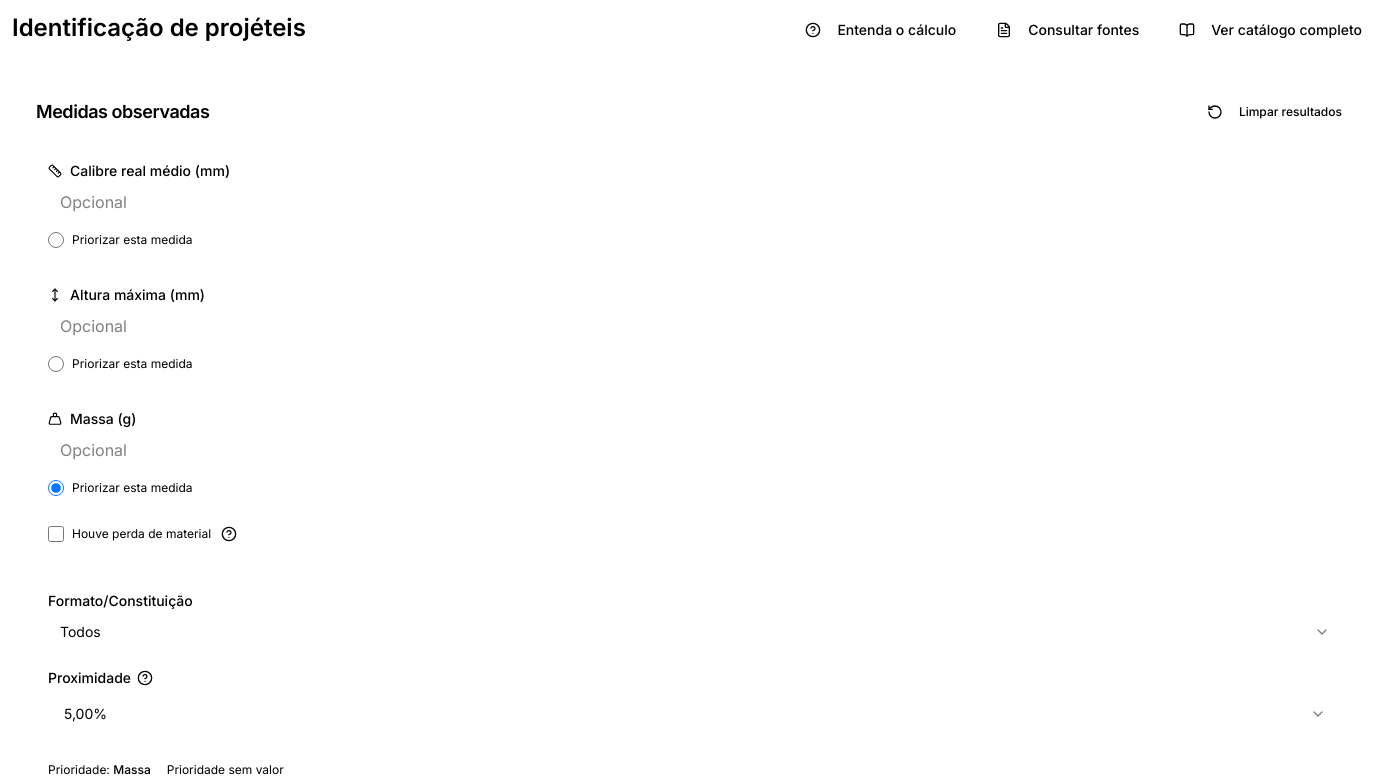
página de projéteis › seleciona massa por padrão e mantém uma única prioridade com rótulos acessíveis
Expected: the radio button with aria-label "Priorizar massa" is checked, [48,480,64,496]
Click the radio button with aria-label "Priorizar calibre real médio": (56, 240) [48,232,64,248]
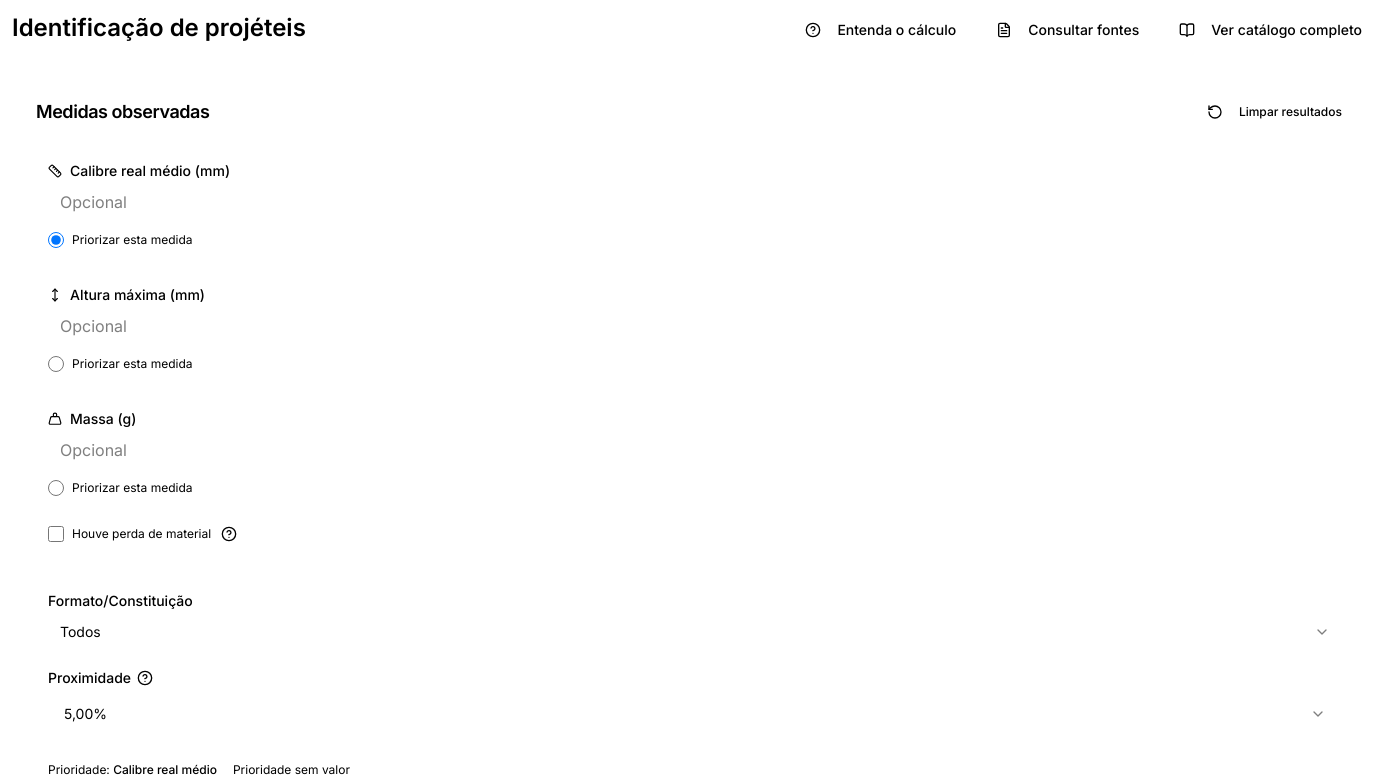
Expected: the text "Prioridade sem valor" is shown, [233,762,350,778]
Now the radio button with aria-label "Priorizar calibre real médio" is checked, box [48,232,64,248]
Now the radio button with aria-label "Priorizar massa" is not checked, box [48,480,64,496]
